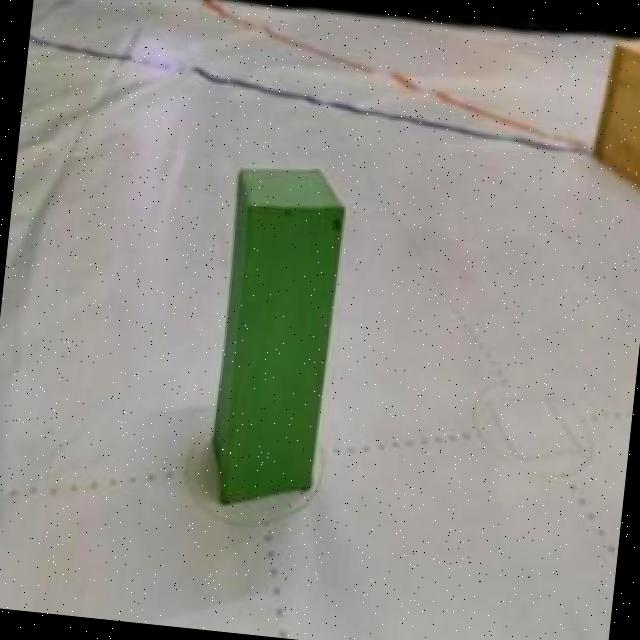greenbox: (194, 154, 351, 517)
